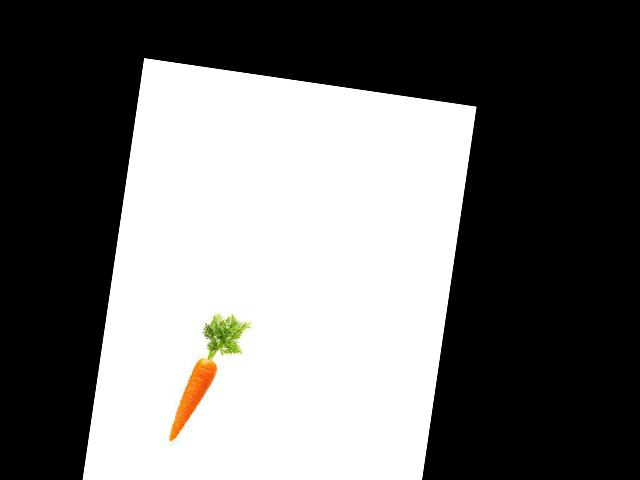carrot: (158, 352, 221, 452)
